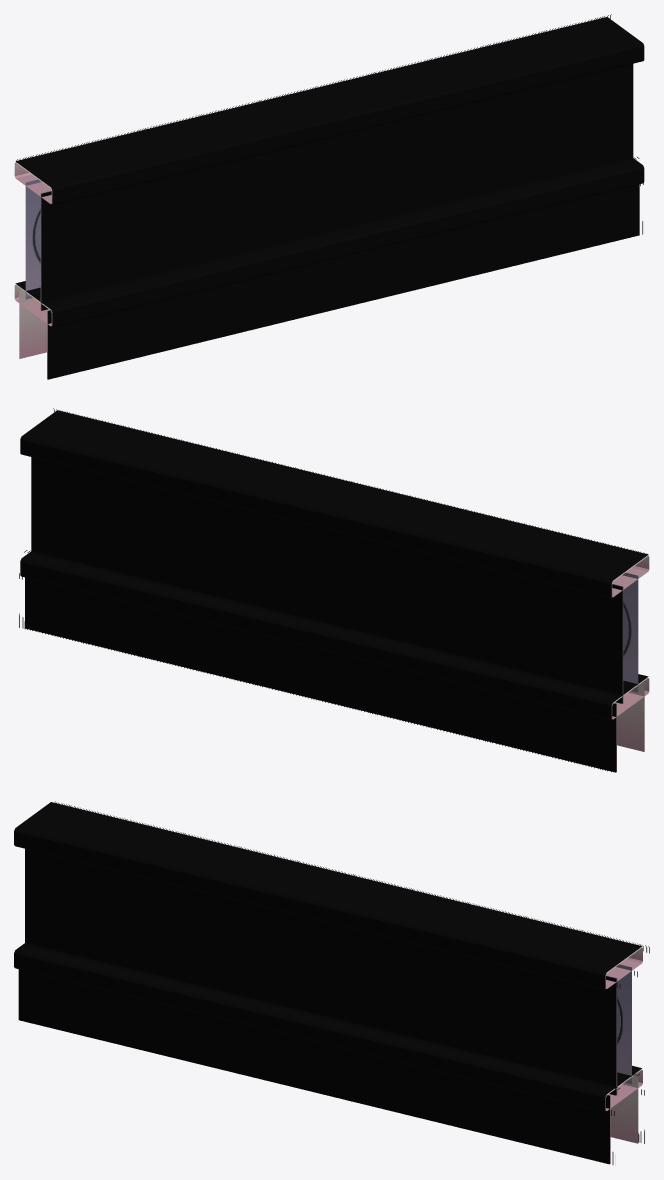
The model's file is wall-small-01.glb.
3 renders of one model, top to bottom at view 1: azimuth 30°, elevation 25°; view 2: azimuth 150°, elevation 25°; view 3: azimuth 330°, elevation 25°, orthographic.
Visible parts, largest first — view 1: Wall_Small_01; view 2: Wall_Small_01; view 3: Wall_Small_01.
Part boxes in pixels (x1,y1,x2,y2): Wall_Small_01: (14,14,644,379); Wall_Small_01: (19,408,649,772); Wall_Small_01: (14,801,649,1164).
Size of the model in its own units: 4.04 by 1.26 by 0.4609.
3 materials, 2 textured.
